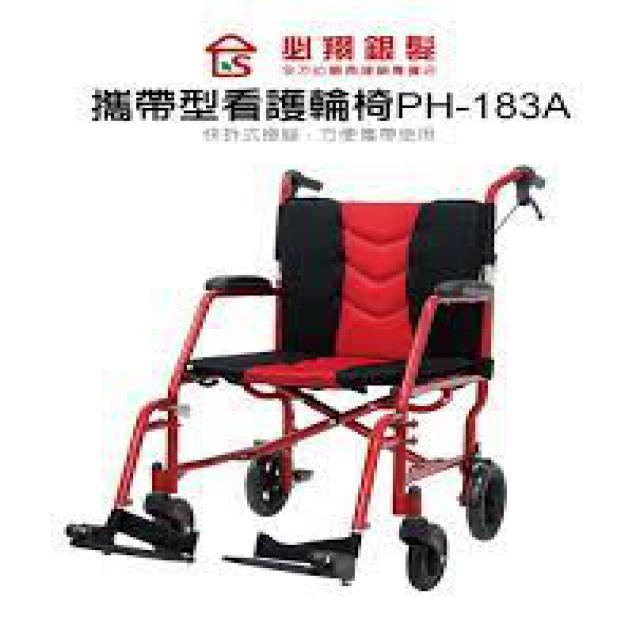wheelchair: (54, 162, 564, 594)
